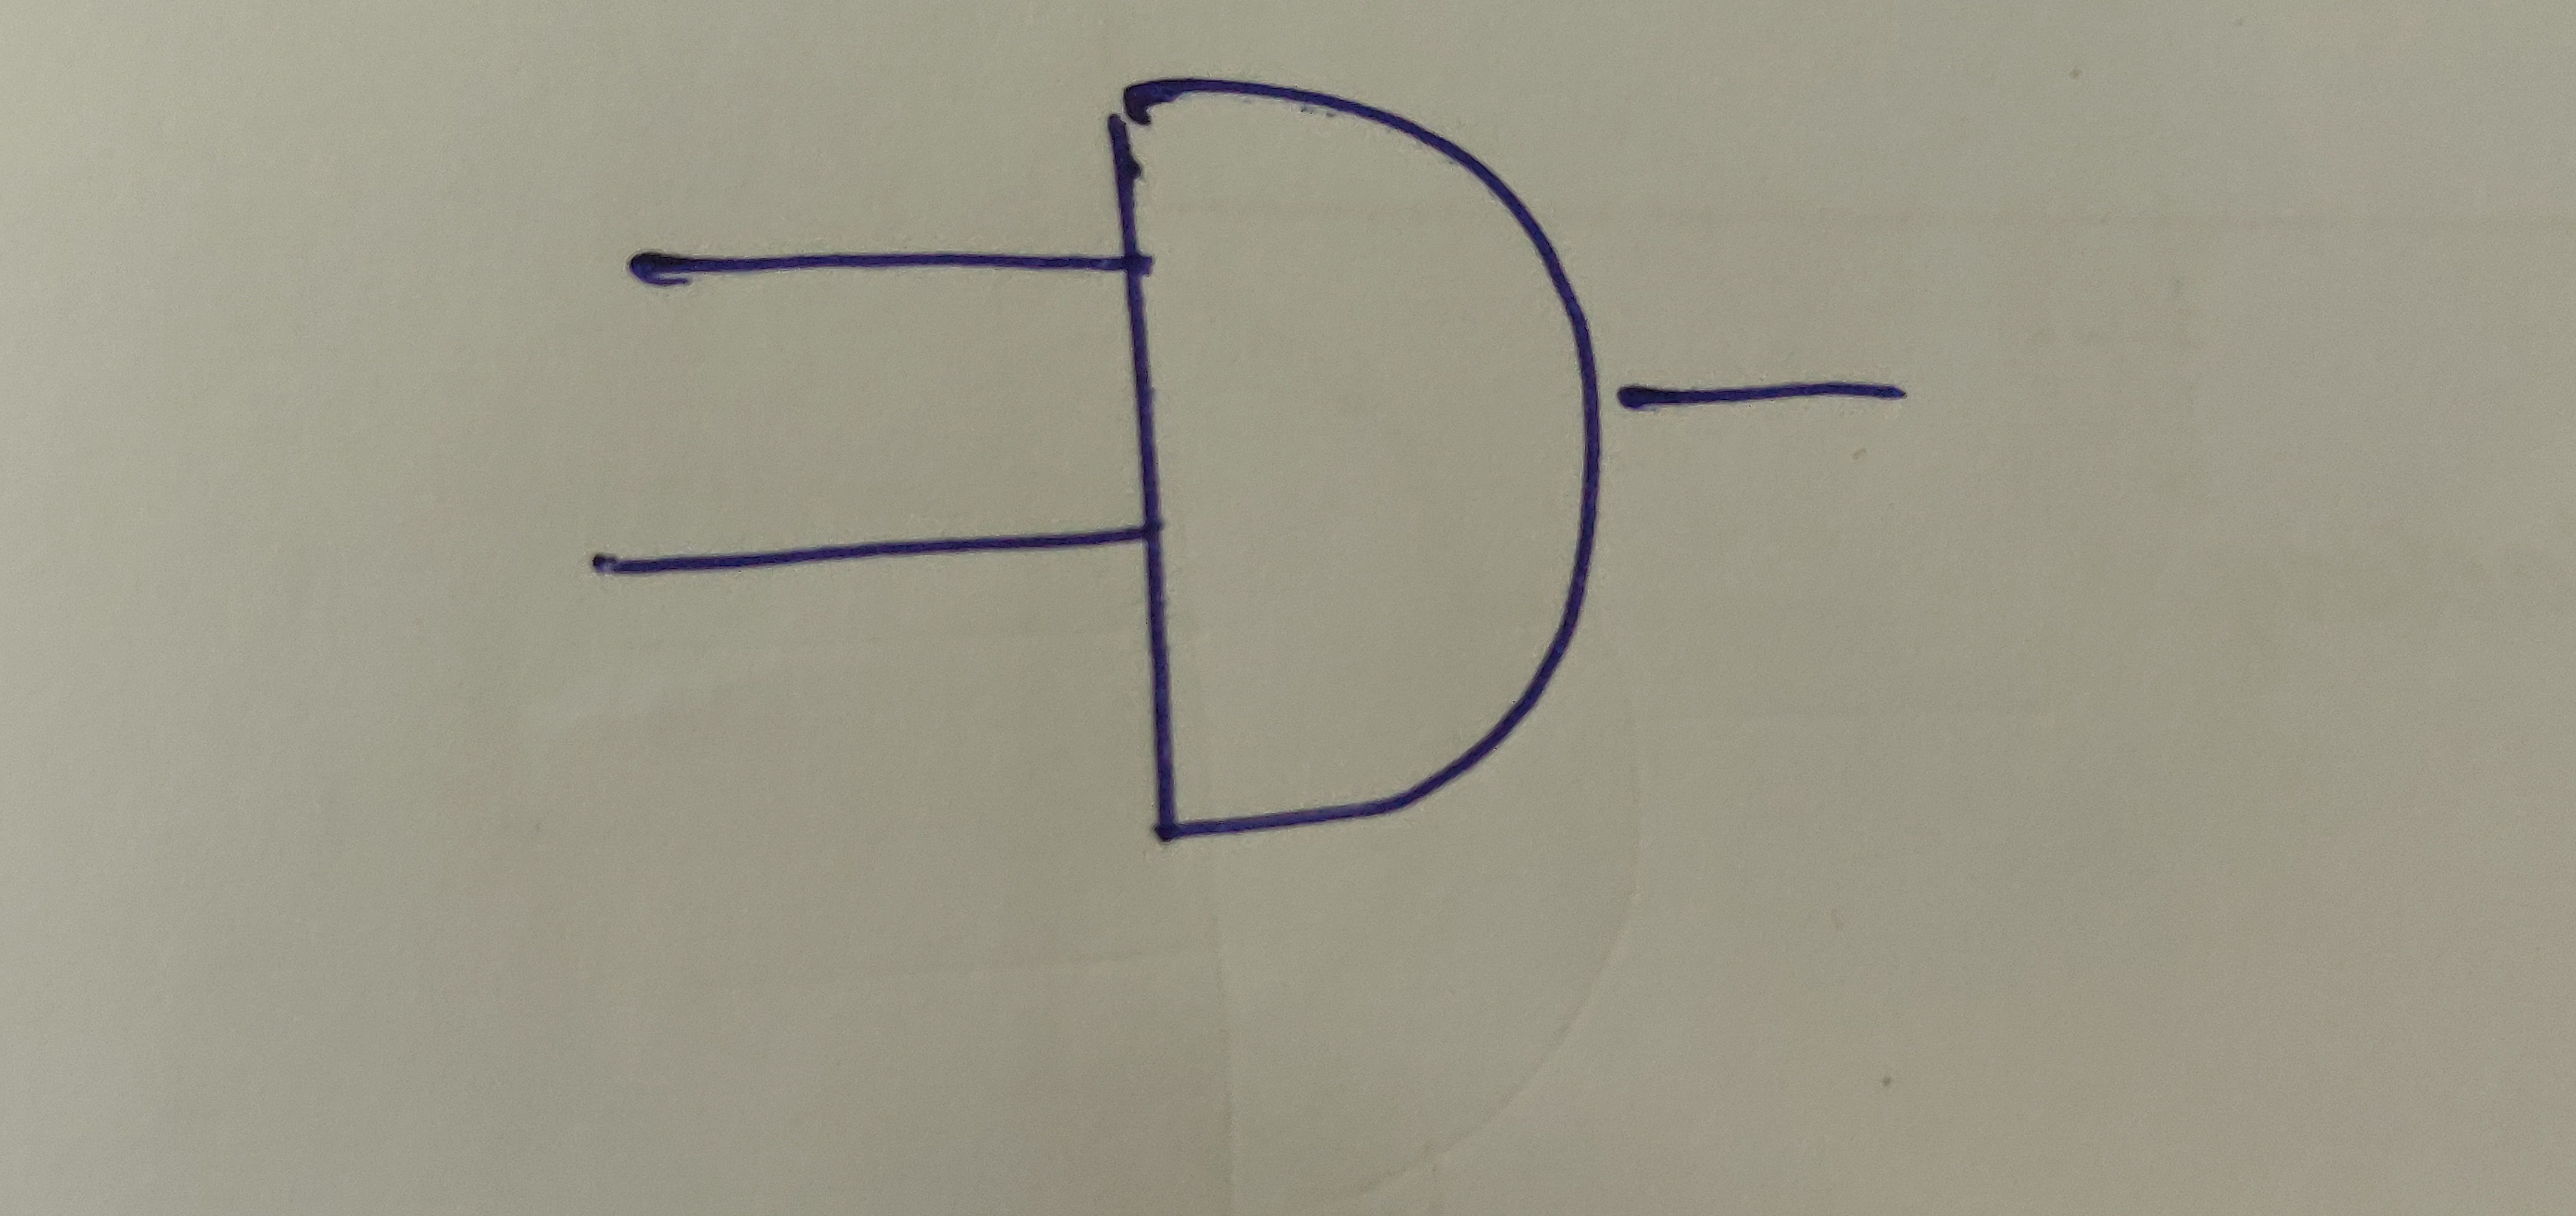and: (1102, 79, 1613, 841)
